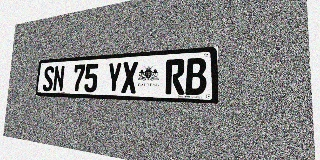5: (84, 63, 98, 92)
7: (72, 64, 85, 92)
B: (185, 57, 206, 95)
N: (52, 65, 65, 92)
R: (165, 59, 185, 95)
S: (42, 66, 54, 91)
X: (121, 61, 138, 93)
Y: (106, 62, 122, 93)
